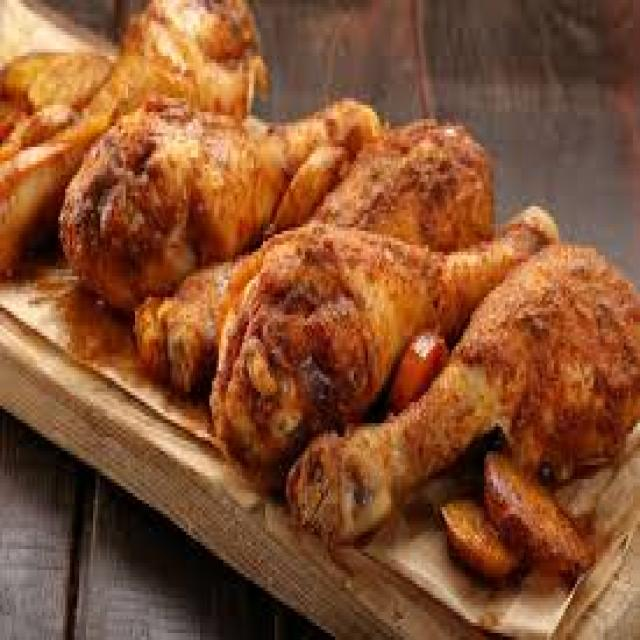Frango: (2, 7, 640, 577)
